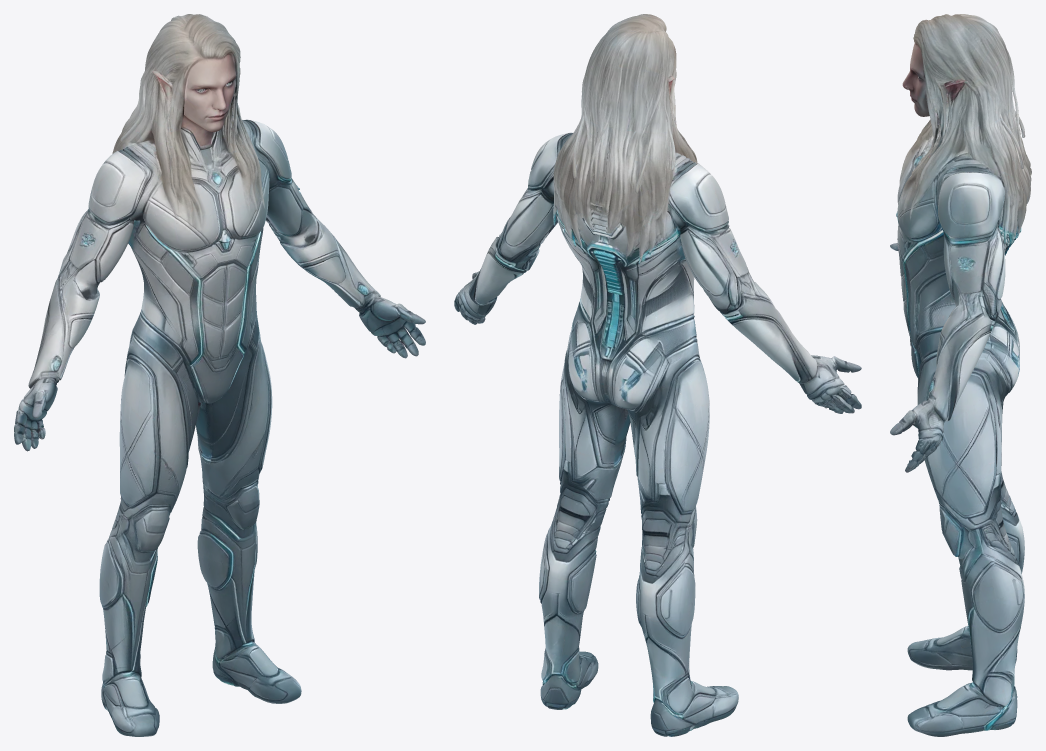
File: starlight-sentinel.glb
3 renders of one model, left to right at view 1: azimuth 30°, elevation 25°; view 2: azimuth 150°, elevation 25°; view 3: azimuth 270°, elevation 25°, orthographic.
Parts seen in each view (by area): view 1: mesh_node; view 2: mesh_node; view 3: mesh_node.
Boxes of the visible parts, x1,y1,x2,y2 form: mesh_node: (14,14,425,736); mesh_node: (454,14,861,736); mesh_node: (890,14,1031,736).
Bounding box in the file's own units: 1.19 × 1.9 × 0.3601.
1 material, 1 textured.
